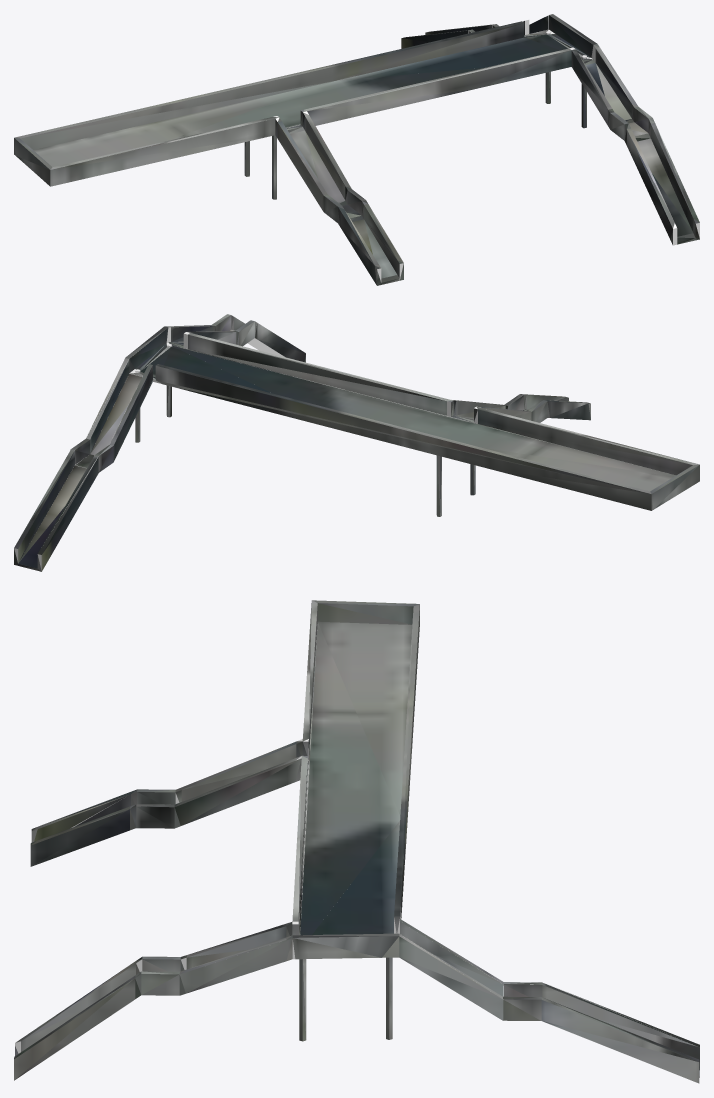
File: bridge_0_-2.glb
The picture shows the model from 3 angles, top to bottom: view 1: azimuth 30°, elevation 25°; view 2: azimuth 150°, elevation 25°; view 3: azimuth 270°, elevation 25°; orthographic projection. The views are drawn at different scales.
Size of the model in its own units: 38.9 by 8.15 by 33.4.
2 materials, 1 textured.
